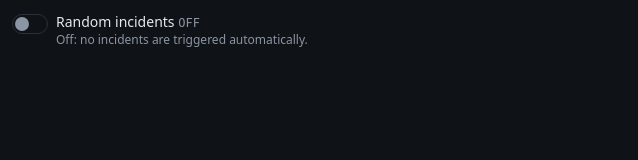
RandomIncidentsControl › explains a worker that went away (503) concisely and leaves the switch OFF and usable
What coordinates should you click on to do the following:
click the switch named "Random incidents"
I would click on:
 (30, 24)
Its box is x1=12 y1=14 x2=48 y2=34.
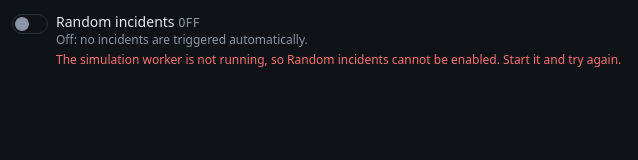
Check: the message does not show "uv run", box x1=56 y1=52 x2=621 y2=68
Check: the message shows "The simulation worker is not running", box x1=56 y1=51 x2=621 y2=68
Check: the message shows "cannot be enabled", box x1=56 y1=51 x2=621 y2=68
